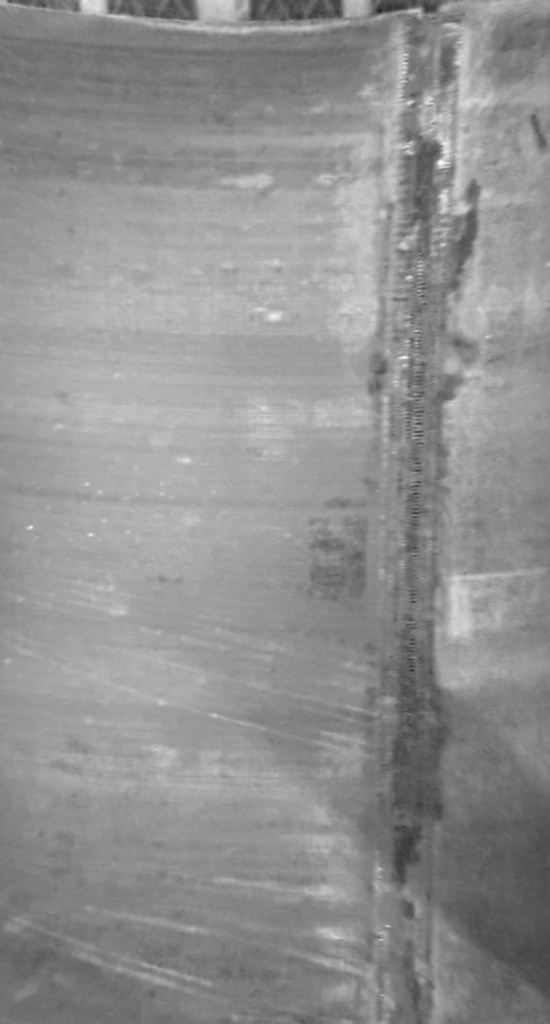splice: (376, 1, 473, 1021)
